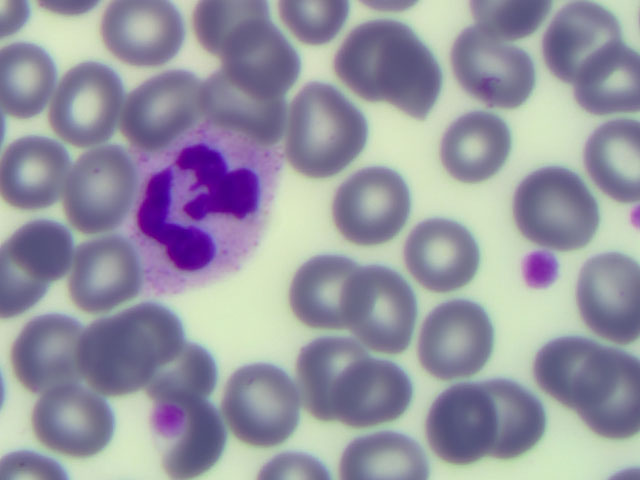Platelets: (527, 251, 559, 288), (159, 407, 181, 435)
RBC: (516, 176, 601, 254), (290, 80, 357, 174), (455, 32, 536, 108), (573, 251, 640, 340), (572, 354, 640, 440), (422, 302, 496, 378), (297, 258, 376, 329), (540, 340, 622, 406), (476, 378, 545, 455), (302, 340, 369, 419), (427, 386, 494, 464), (375, 39, 442, 116), (22, 317, 94, 386), (346, 275, 413, 349), (36, 389, 122, 446), (233, 364, 297, 440), (547, 7, 608, 86), (86, 318, 150, 391), (443, 111, 507, 184), (228, 24, 294, 94), (335, 363, 413, 422), (336, 24, 410, 86), (105, 2, 181, 62), (340, 169, 405, 238), (408, 223, 479, 286), (586, 125, 640, 205), (70, 236, 131, 304), (124, 75, 200, 129), (580, 46, 640, 114), (60, 65, 114, 139), (70, 151, 127, 221), (212, 70, 281, 126), (345, 434, 424, 480), (2, 45, 53, 116), (7, 140, 65, 202), (150, 341, 213, 394), (195, 1, 258, 53), (119, 310, 185, 356), (16, 221, 68, 276), (183, 398, 222, 468), (471, 1, 540, 31), (283, 1, 343, 34), (261, 452, 327, 480)
WBC: (135, 140, 265, 299)
